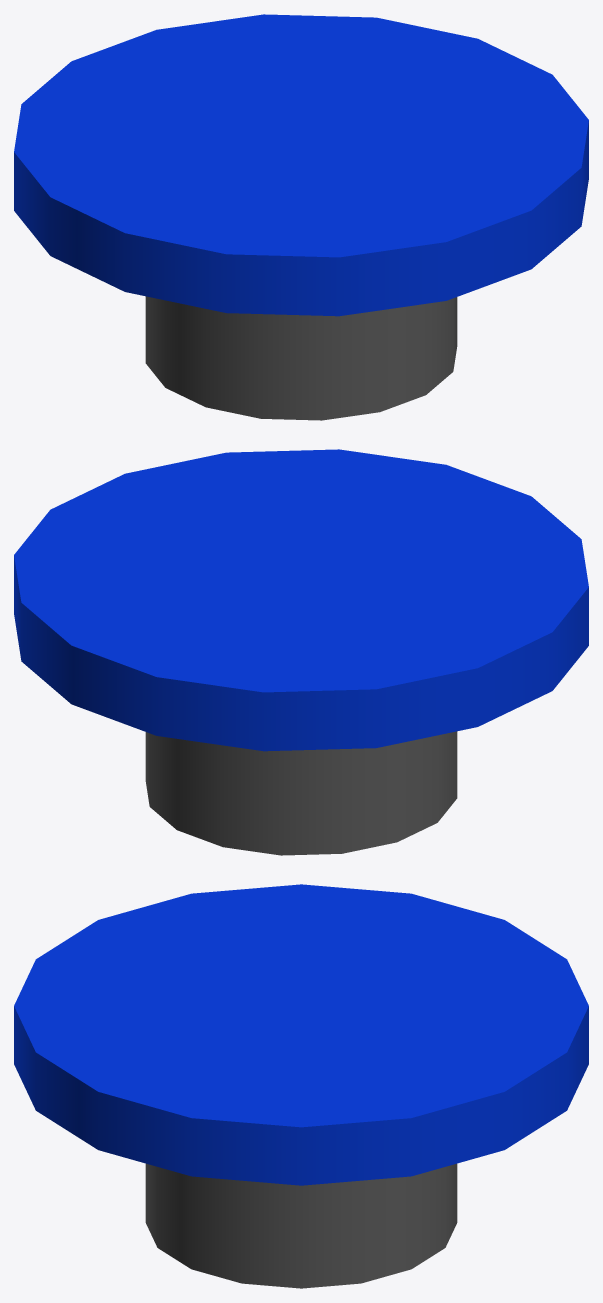
File: spring.fbx
3 views of the same model, one above another, from view 1: azimuth 30°, elevation 25°; view 2: azimuth 150°, elevation 25°; view 3: azimuth 270°, elevation 25° (orthographic).
Parts seen in each view (by area): view 1: Circle; view 2: Circle; view 3: Circle.
Part boxes in pixels (x1,y1,x2,y2): Circle: (14,14,588,420); Circle: (14,449,588,855); Circle: (14,884,588,1288).
Bounding box in the file's own units: 119 × 49.37 × 119.
